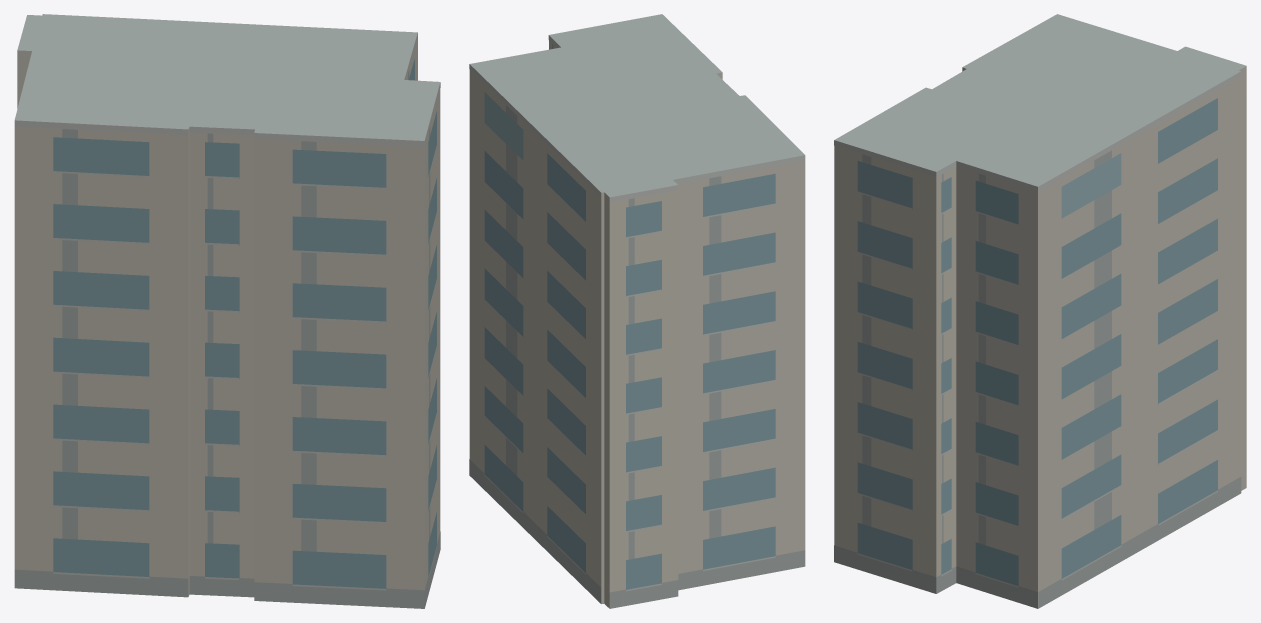
File: survey-upis-32756856.glb
The picture shows the model from 3 angles, left to right: view 1: azimuth 30°, elevation 25°; view 2: azimuth 150°, elevation 25°; view 3: azimuth 270°, elevation 25°; orthographic projection. The views are drawn at different scales.
Parts seen in each view (by area): view 1: survey-upis-32756856.tmp; view 2: survey-upis-32756856.tmp; view 3: survey-upis-32756856.tmp.
Part boxes in pixels (bbox=[...]): survey-upis-32756856.tmp: bbox=[14, 14, 440, 608]; survey-upis-32756856.tmp: bbox=[469, 14, 805, 608]; survey-upis-32756856.tmp: bbox=[834, 14, 1246, 608].
Bounding box in the file's own units: 16.61 × 18.9 × 16.75.
